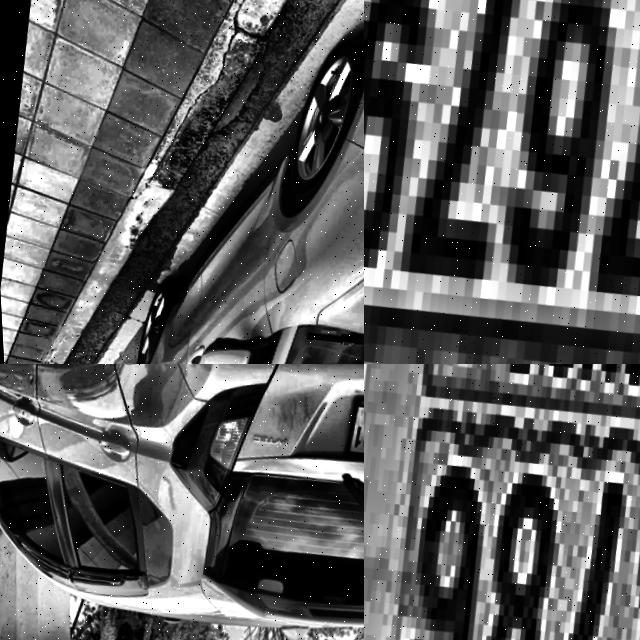license-plate: (364, 0, 640, 364), (364, 364, 640, 640), (335, 397, 364, 481)
